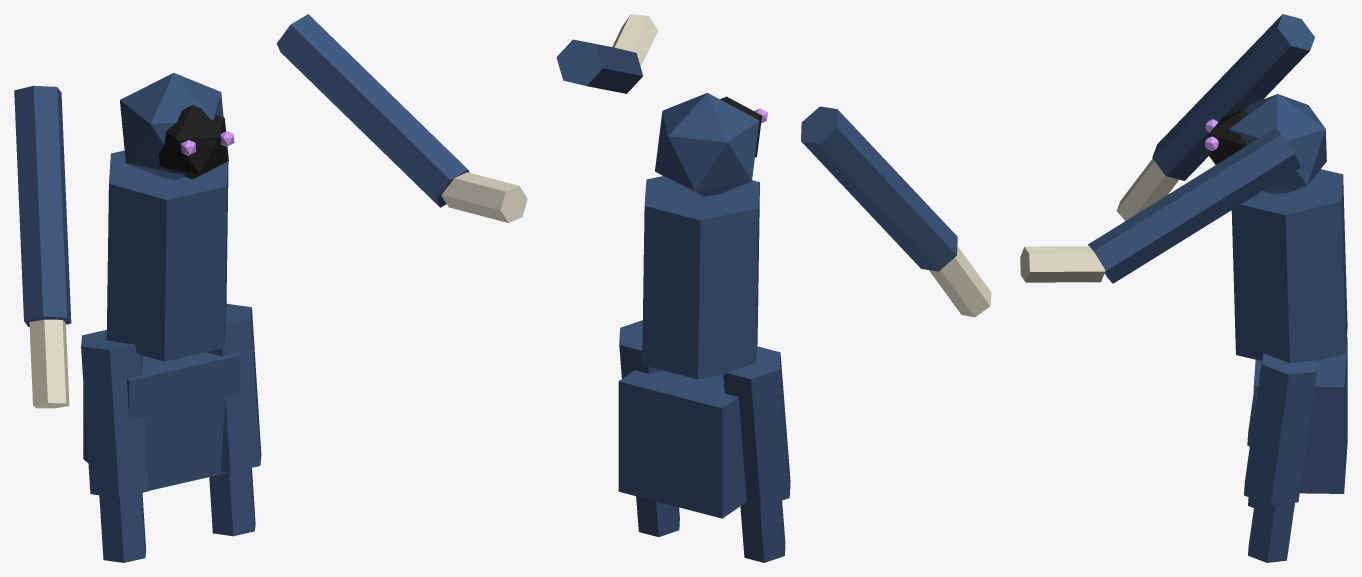
Rendered from npcpose_wraith_attack_01.glb.
3 views of the same model, side by side, from view 1: azimuth 30°, elevation 25°; view 2: azimuth 150°, elevation 25°; view 3: azimuth 270°, elevation 25° (orthographic). The views are drawn at different scales.
Parts seen in each view (by area): view 1: npcpose; view 2: npcpose; view 3: npcpose.
Boxes of the visible parts, x1,y1,x2,y2 form: npcpose: (14,14,527,562); npcpose: (556,14,991,562); npcpose: (1020,14,1347,562).
Bounding box in the file's own units: 1.04 × 1.12 × 0.7226.
